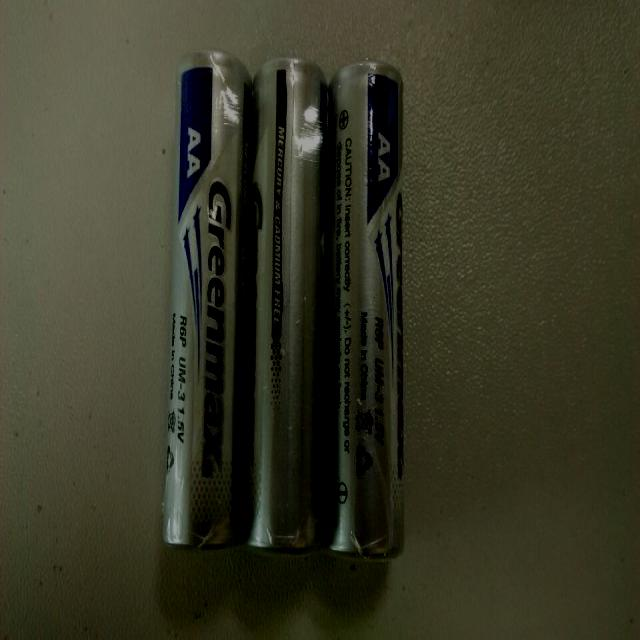AA: (160, 52, 254, 550), (245, 46, 331, 558), (324, 53, 408, 557)
